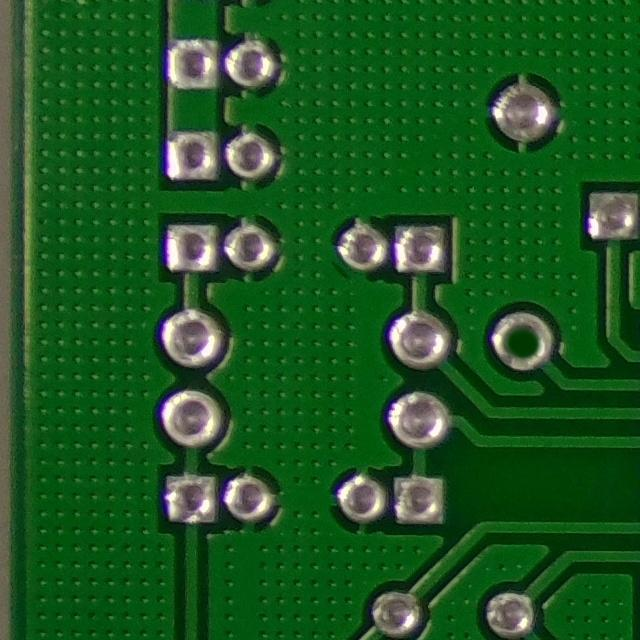missing_hole: (482, 303, 562, 376)
